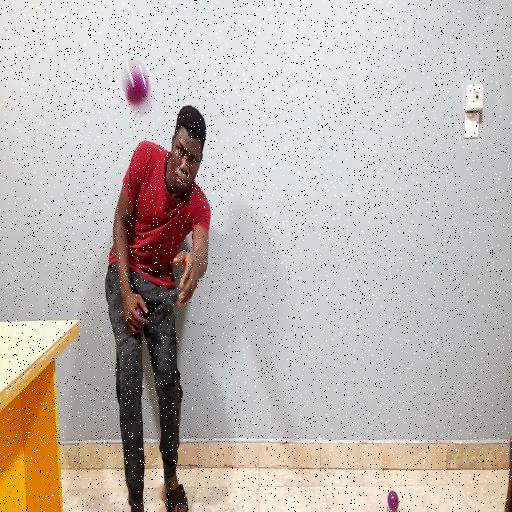plastic-ball: (119, 48, 153, 121)
